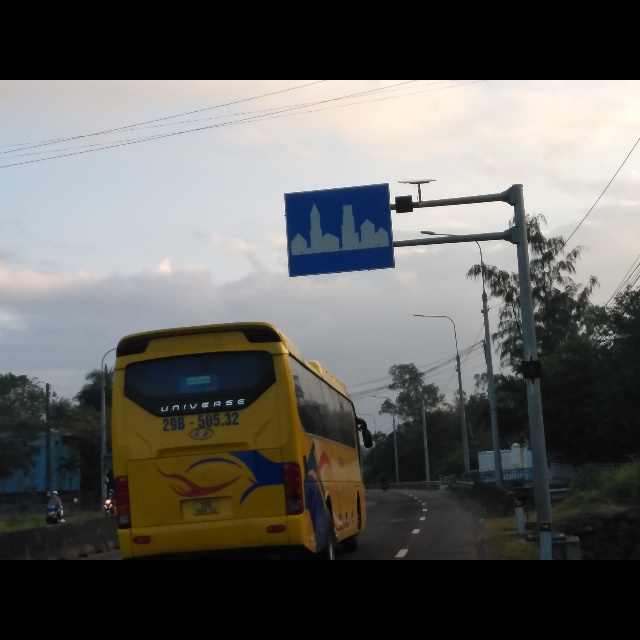Khu đông dân cư: (284, 178, 400, 278)
